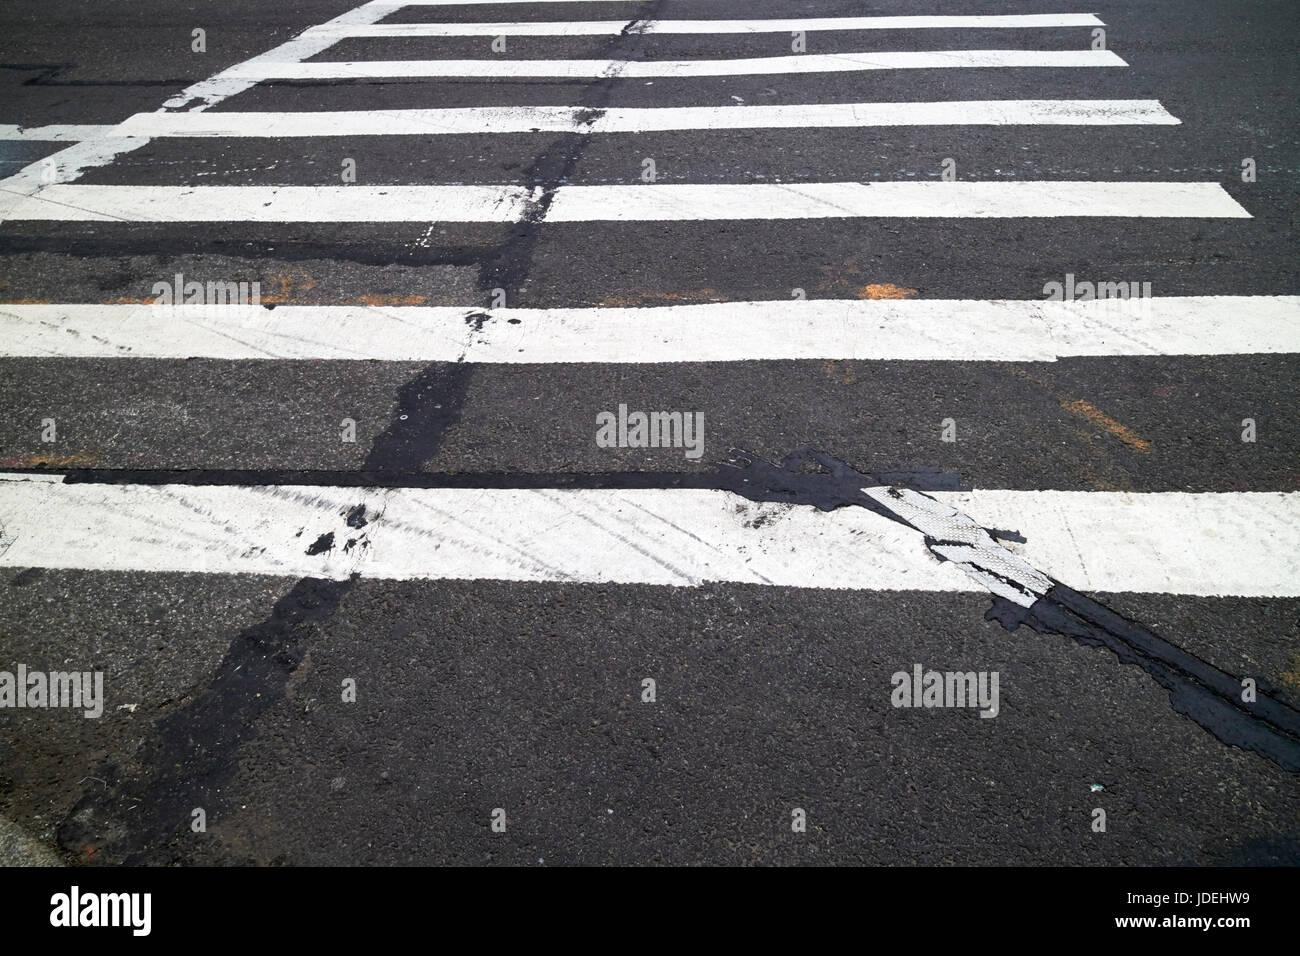faded_road_lines: (0, 474, 1299, 605), (0, 284, 1299, 370), (0, 0, 400, 222), (0, 170, 1245, 234), (109, 90, 1182, 154), (255, 38, 1140, 93), (338, 4, 1113, 42)
